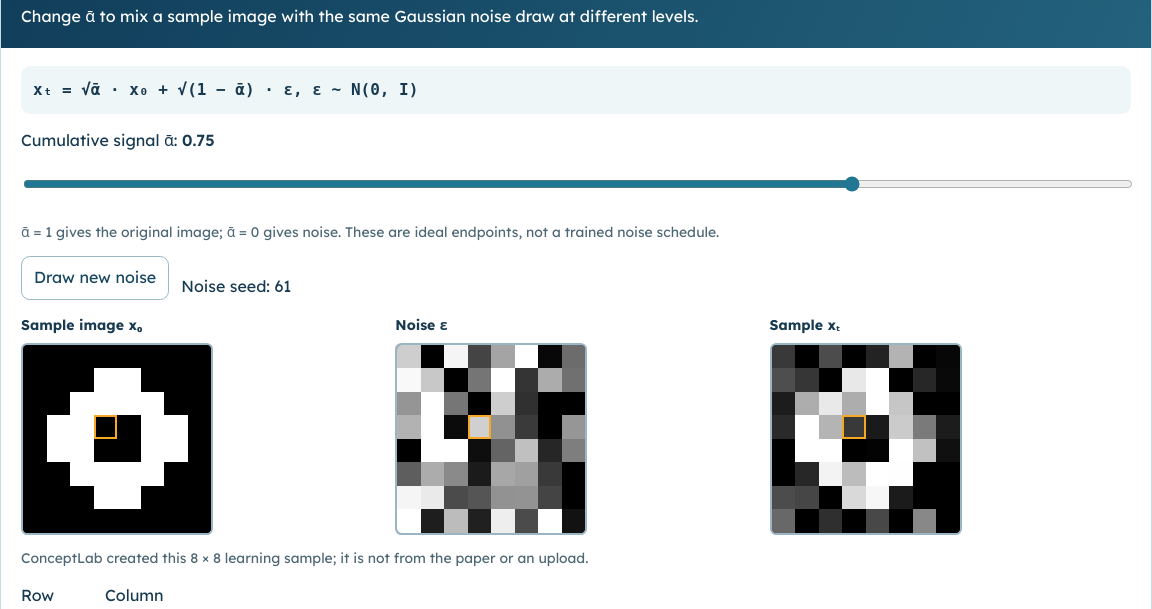
supports exact forward endpoints and keeps the raw sample visible without WebGL
The image size is (1152, 609).
Set the slider labelled "Cumulative signal ᾱ: 0.75" to "1" at x=1125, y=184, box [23,162,1133,206]
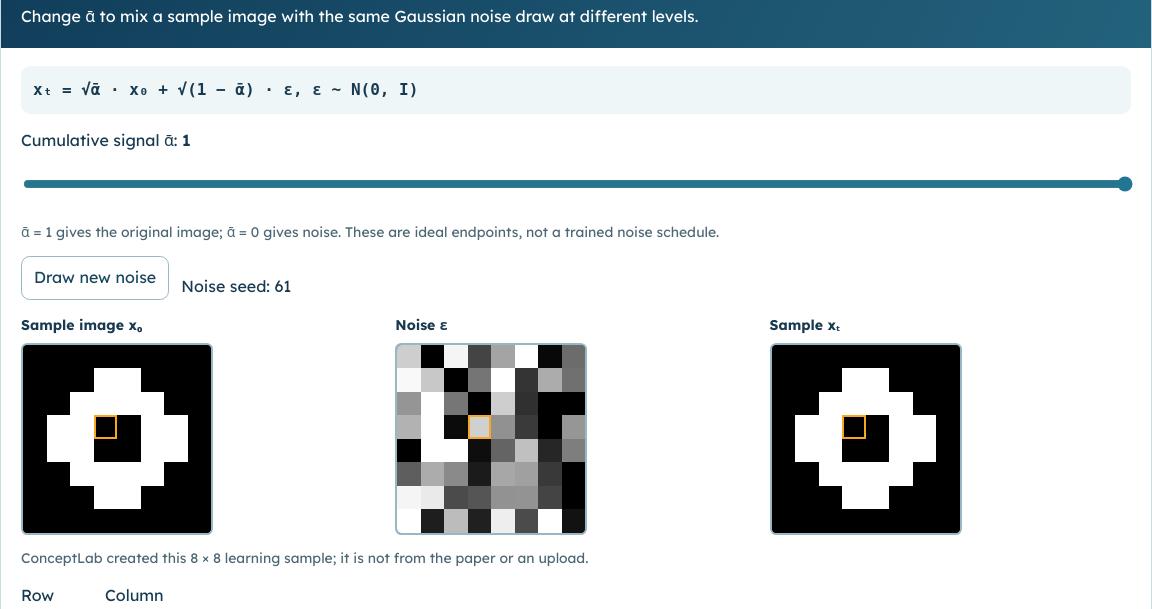
Set the slider labelled "Cumulative signal ᾱ: 1" to "0" at x=31, y=184, box [23,162,1133,206]
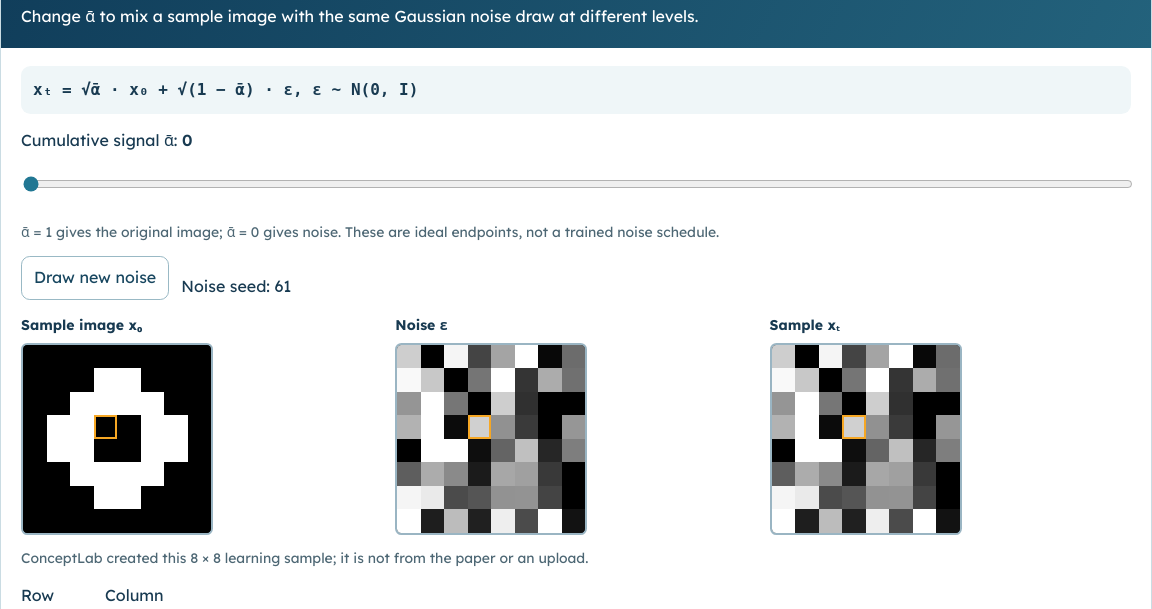
Click the button "Draw new noise" at x=95, y=278, box [21,256,169,300]
(page scrolled)
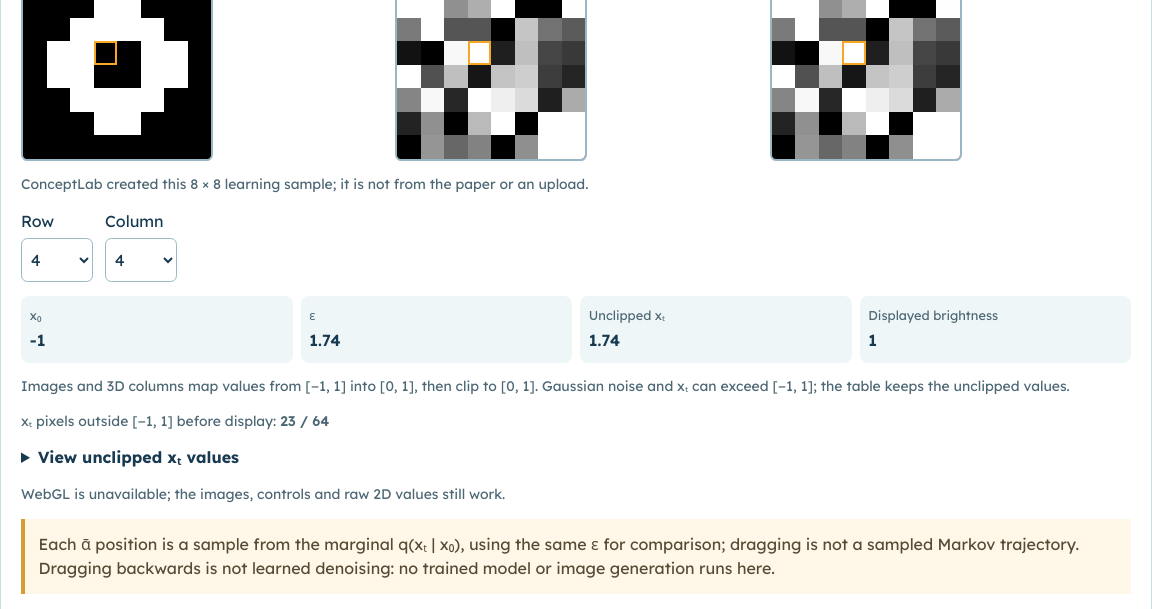
Click the heading "View unclipped xₜ values" at x=138, y=457, box [38,447,239,467]
(page scrolled)
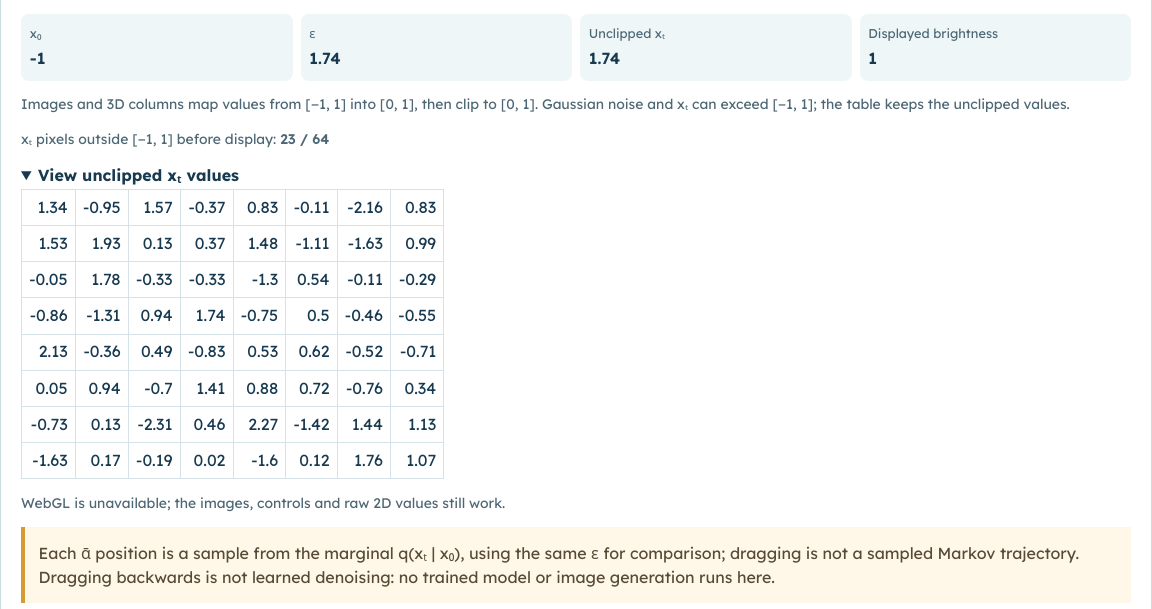
Expected: the table named "Table of unclipped xₜ values" is shown, [21,189,444,479]
